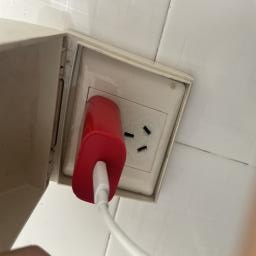outlet: (46, 32, 201, 223)
